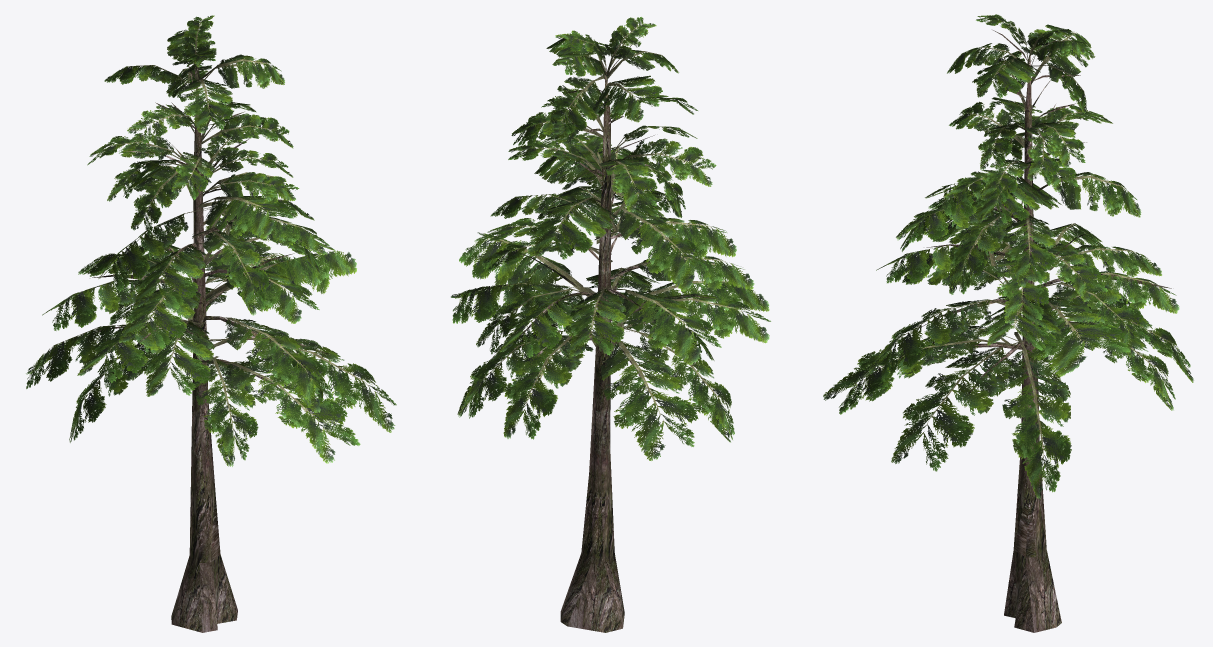
Rendered from WollemiPine_01.DAE.
3 views of the same model, side by side, from view 1: azimuth 30°, elevation 25°; view 2: azimuth 150°, elevation 25°; view 3: azimuth 270°, elevation 25° (orthographic).
Parts seen in each view (by area): view 1: WollemiPine300, WollemiPine100, WollemiPine200; view 2: WollemiPine300, WollemiPine100, WollemiPine200; view 3: WollemiPine300, WollemiPine100, WollemiPine200.
Boxes of the visible parts, x1,y1,x2,y2 form: WollemiPine300: [26, 16, 396, 632]; WollemiPine100: [42, 17, 359, 632]; WollemiPine200: [70, 15, 360, 562]; WollemiPine300: [451, 17, 770, 632]; WollemiPine100: [451, 18, 769, 632]; WollemiPine200: [476, 18, 733, 559]; WollemiPine300: [823, 14, 1193, 632]; WollemiPine100: [839, 15, 1192, 610]; WollemiPine200: [869, 15, 1142, 496].
Size of what is drawn, in the model's own units: 7.27 by 7.73 by 13.07.
